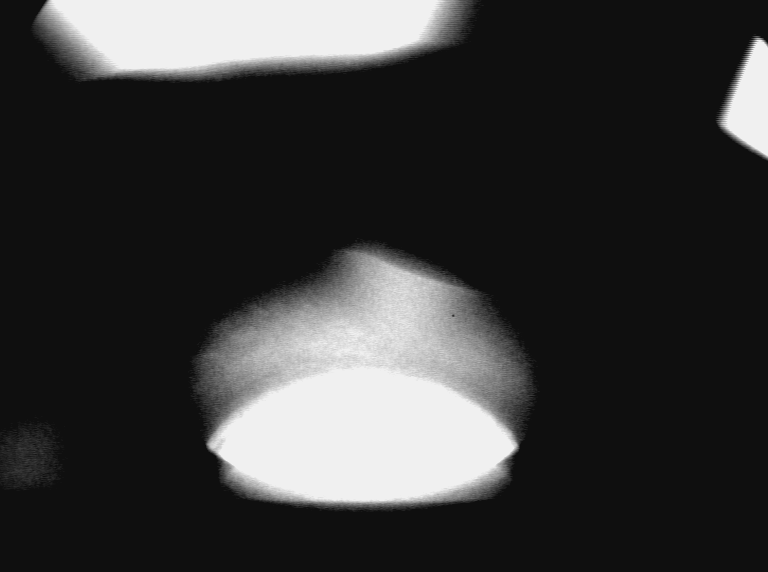defect: (337, 236, 490, 308)
